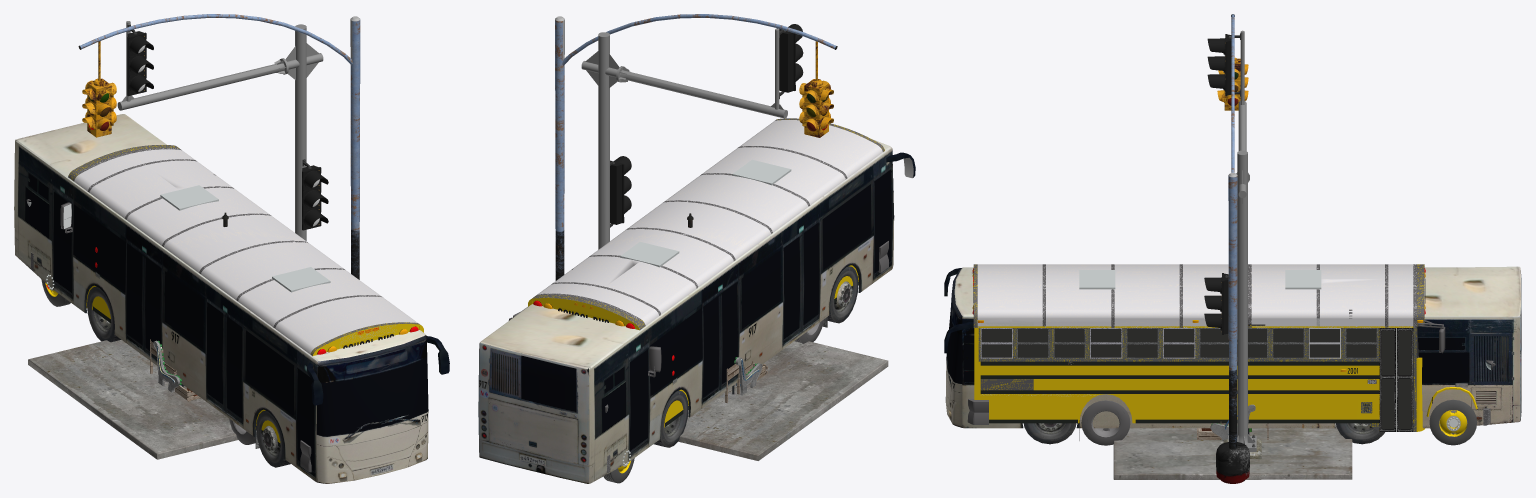
The model's file is library.glb.
The picture shows the model from 3 angles, left to right: view 1: azimuth 30°, elevation 25°; view 2: azimuth 150°, elevation 25°; view 3: azimuth 270°, elevation 25°; orthographic projection. The views are drawn at different scales.
Parts seen in each view (by area): view 1: city-bus, school-bus, sidewalk-module, signal-sinowatcher, signal-american, bench-soviet; view 2: city-bus, school-bus, sidewalk-module, signal-sinowatcher, signal-american, bench-soviet; view 3: school-bus, city-bus, sidewalk-module, signal-sinowatcher, signal-american.
Part boxes in pixels (<box>): city-bus: <box>14,114,449,483</box>; school-bus: <box>26,145,423,472</box>; sidewalk-module: <box>28,340,237,459</box>; signal-sinowatcher: <box>117,21,328,240</box>; signal-american: <box>78,14,360,279</box>; bench-soviet: <box>153,340,182,392</box>; city-bus: <box>478,139,915,483</box>; school-bus: <box>508,118,888,483</box>; sidewalk-module: <box>678,341,888,460</box>; signal-sinowatcher: <box>581,24,803,249</box>; signal-american: <box>555,14,837,280</box>; bench-soviet: <box>734,357,762,395</box>; school-bus: <box>967,264,1495,445</box>; city-bus: <box>944,266,1521,444</box>; sidewalk-module: <box>1113,423,1352,479</box>; signal-sinowatcher: <box>1204,30,1261,458</box>; signal-american: <box>1216,14,1249,483</box>.
Bounding box in the file's own units: 2.63 × 3.25 × 4.9.
49 materials, 33 textured.
